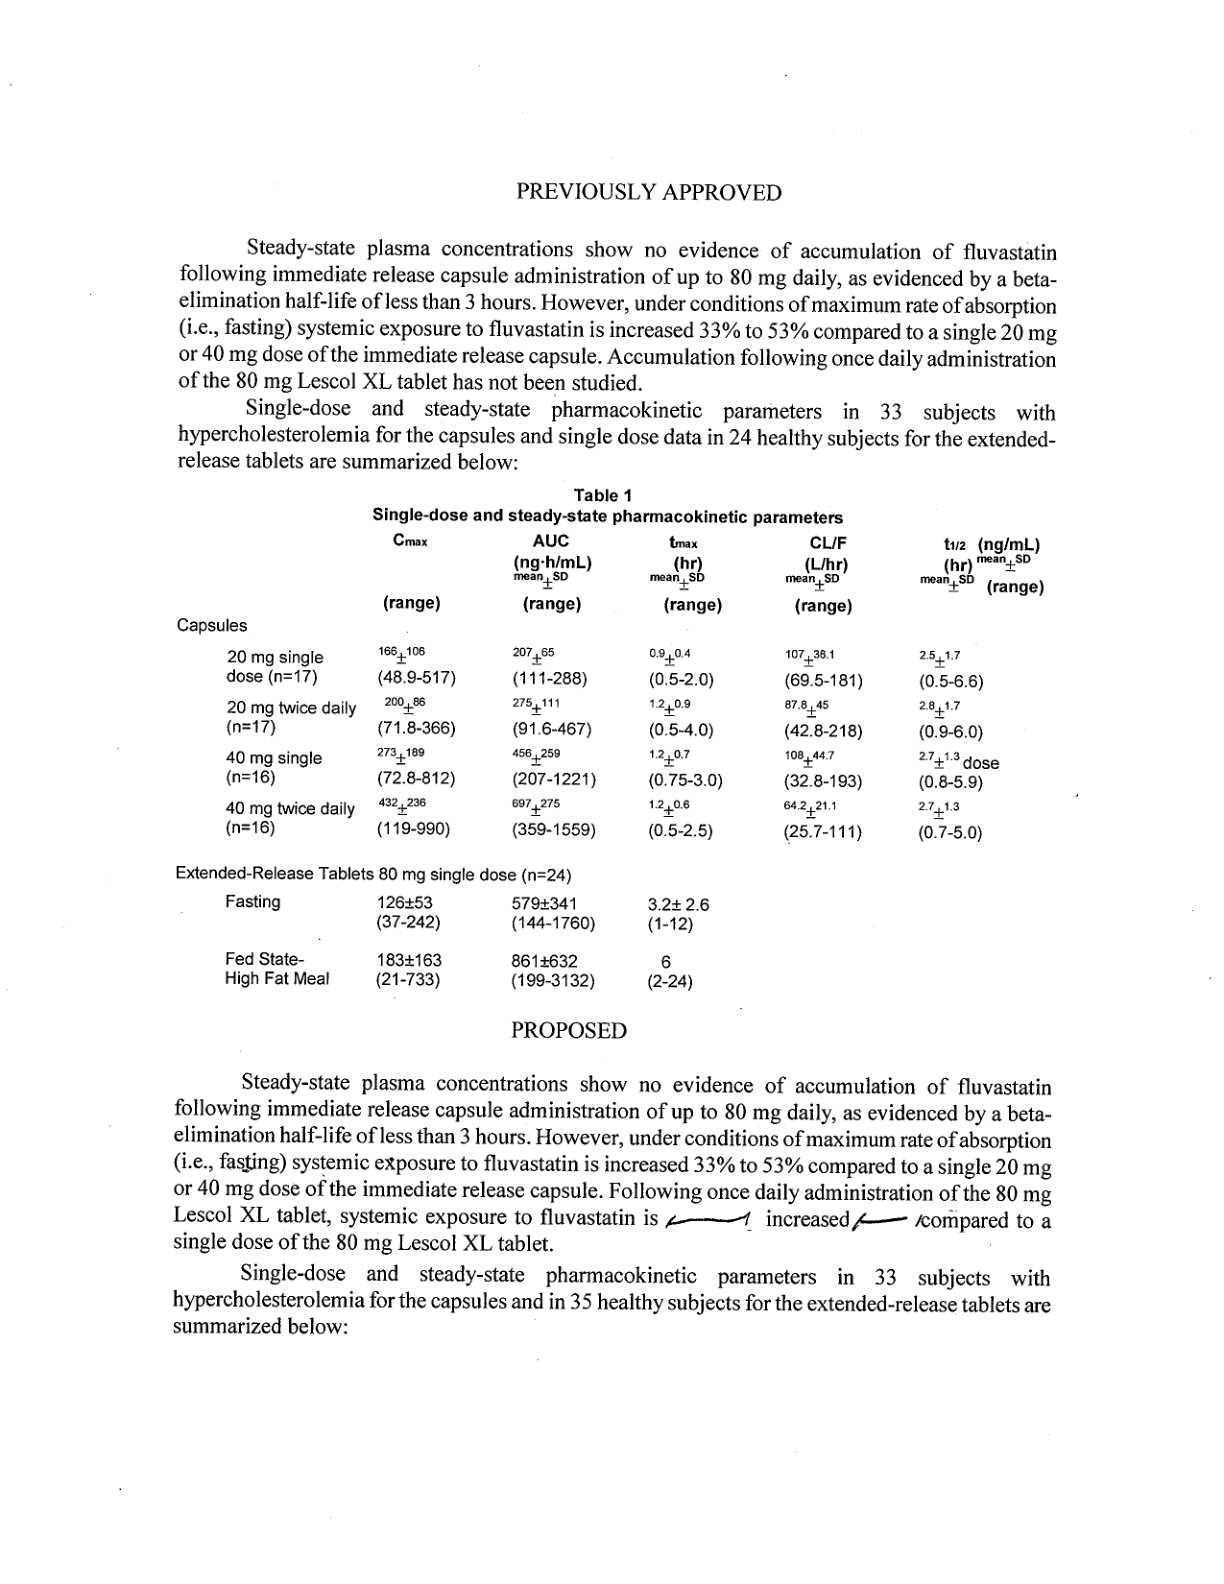nolines: (168, 531, 1044, 993)
